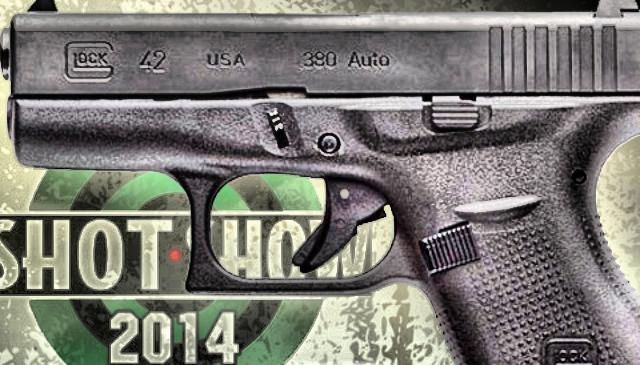pistol: (0, 0, 638, 364)
